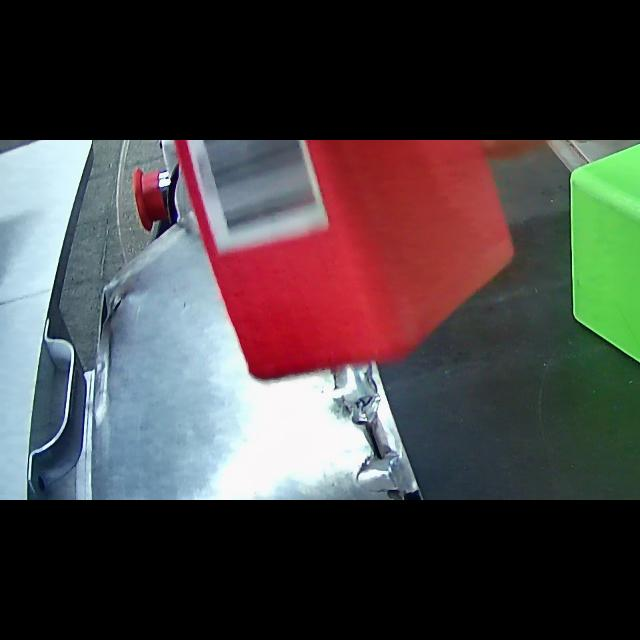greenBox: (564, 140, 640, 436)
redBox: (139, 140, 525, 392)
